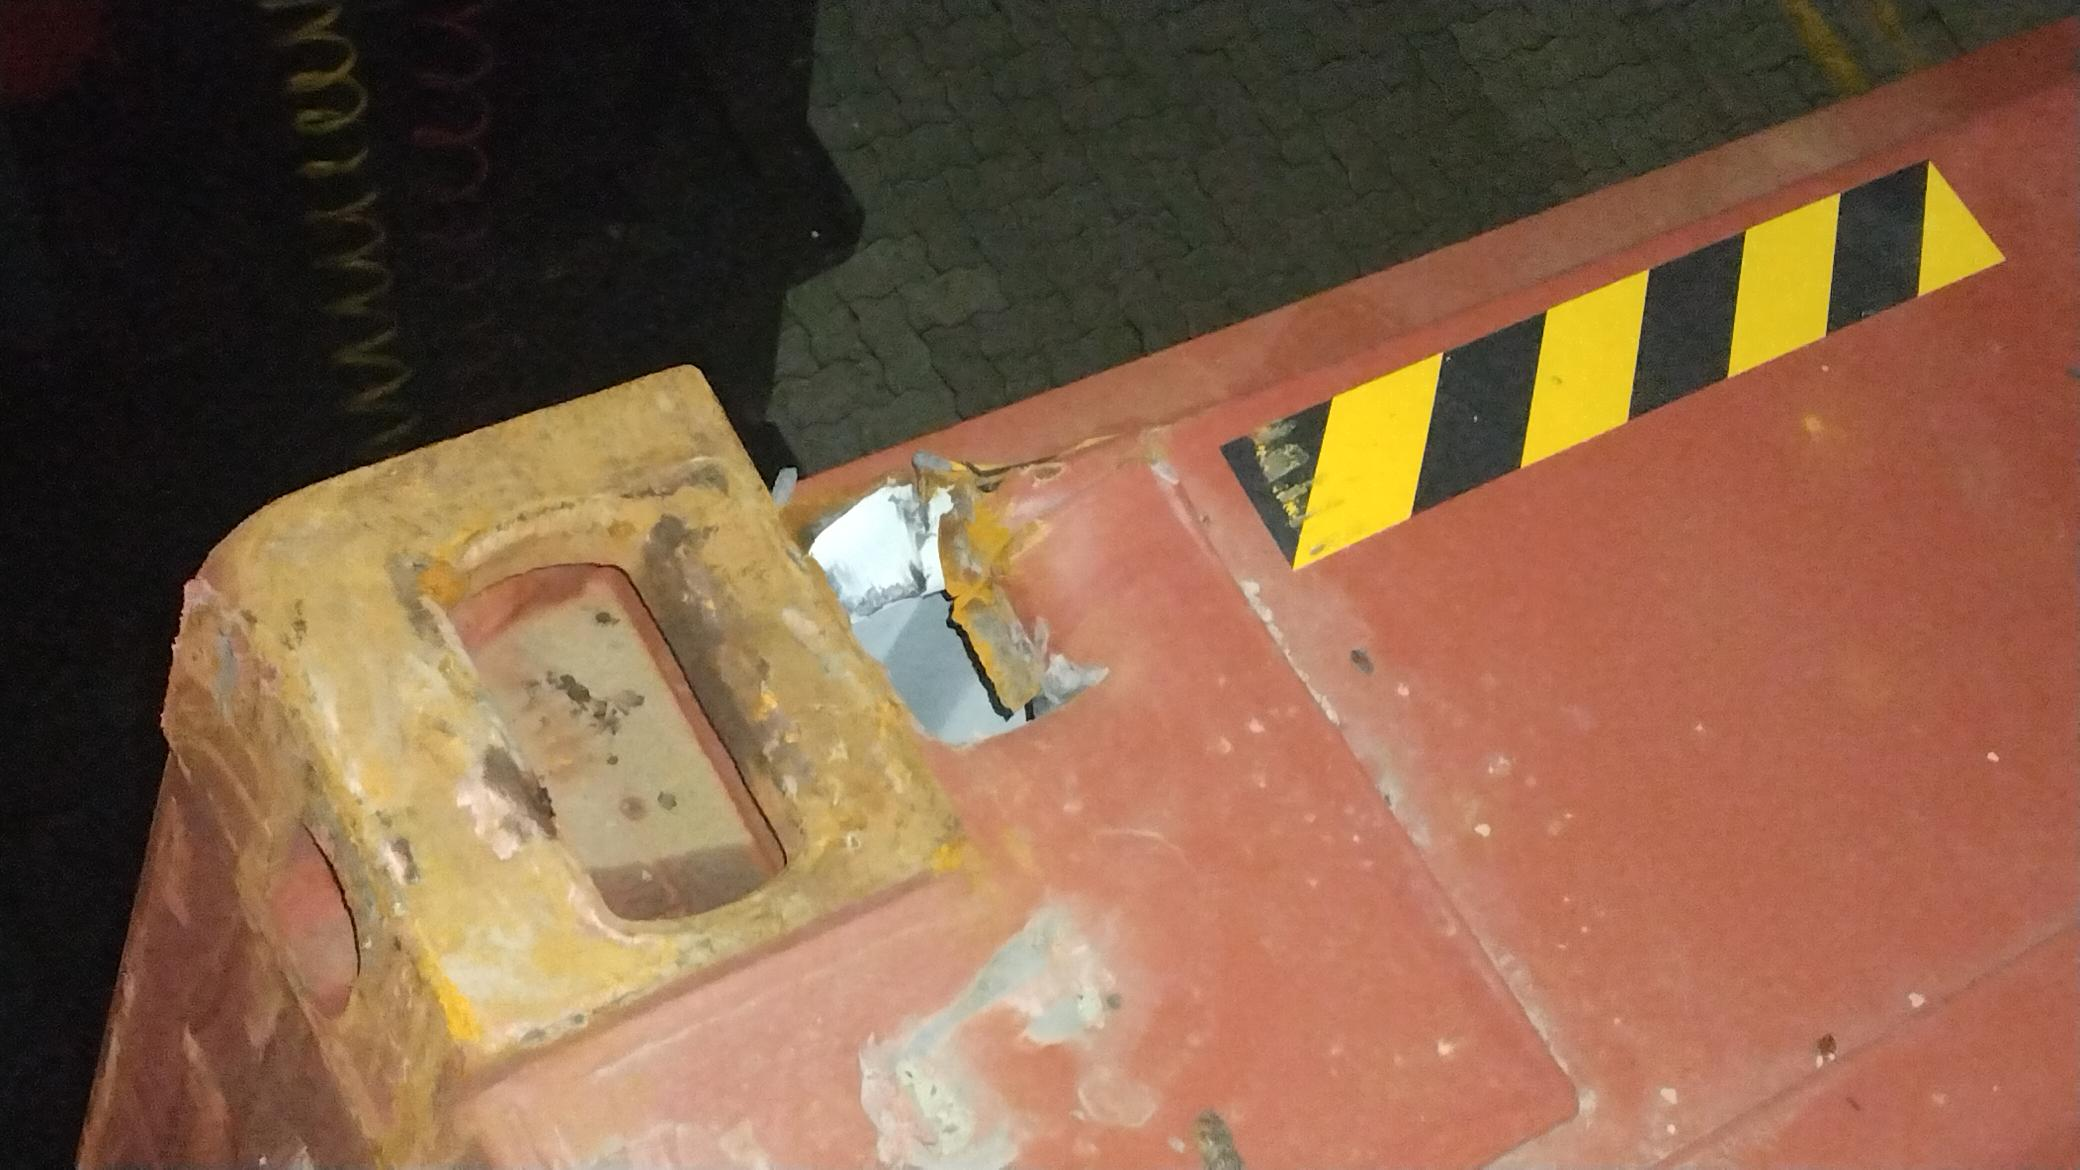hole: (806, 430, 1047, 789)
